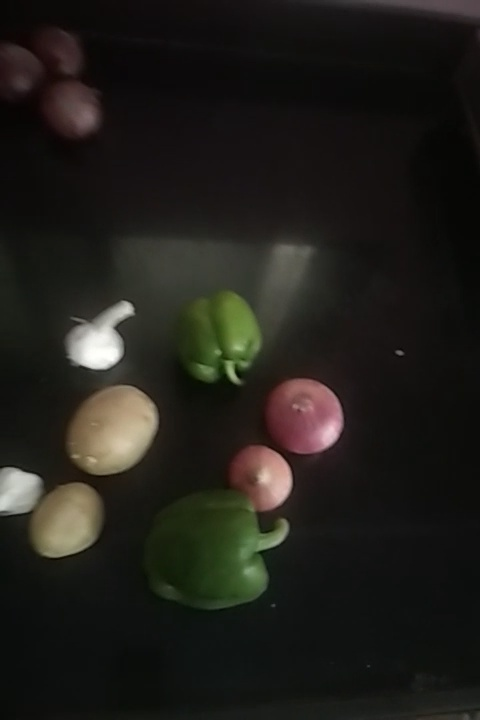capsicum: (144, 493, 281, 615), (163, 295, 263, 394)
garlic: (66, 305, 140, 372), (1, 465, 43, 519)
onion: (266, 381, 351, 456), (226, 439, 302, 513), (37, 77, 113, 143), (1, 48, 49, 104), (41, 29, 83, 85)
potato: (54, 383, 160, 477), (33, 485, 114, 554)
